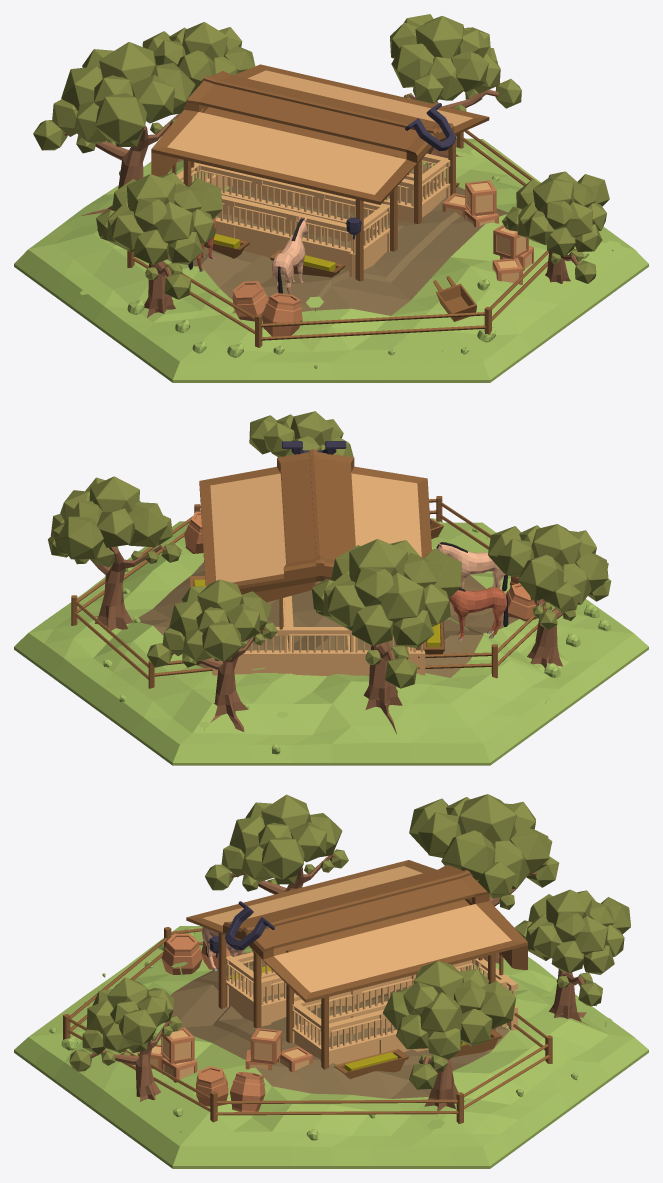
Rendered from stable.glb.
3 views of the same model, one above another, from view 1: azimuth 30°, elevation 25°; view 2: azimuth 150°, elevation 25°; view 3: azimuth 270°, elevation 25° (orthographic).
Visible parts, largest first — view 1: stables, horse.2; view 2: stables, horse, horse.2; view 3: stables.
Part boxes in pixels (x1,y1,x2,y2): stables: [14, 14, 648, 382]; horse.2: [272, 216, 308, 294]; stables: [14, 411, 648, 765]; horse: [449, 587, 508, 640]; horse.2: [436, 540, 507, 591]; stables: [14, 794, 648, 1168].
Size of the model in its own units: 1.77 by 0.6874 by 2.
2 materials, 2 textured.
